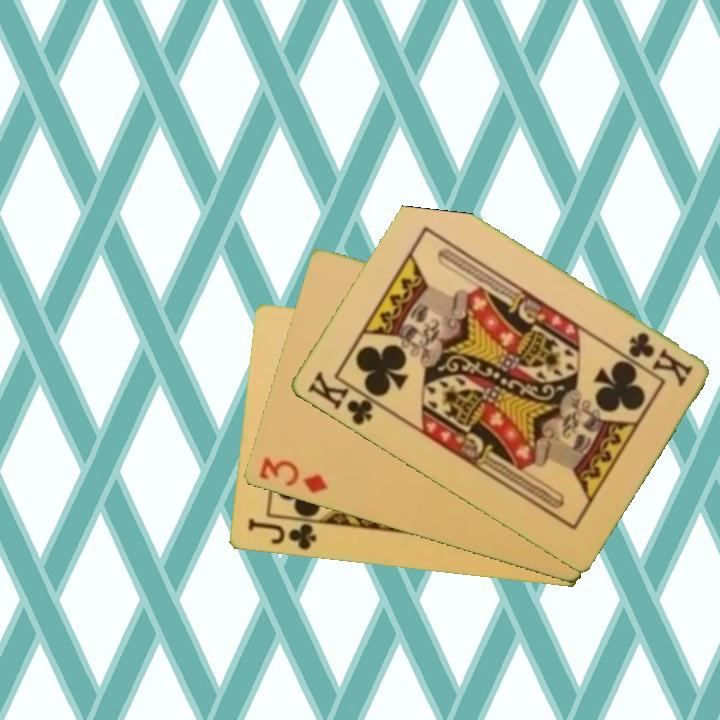3d: (255, 454, 331, 497)
Jc: (243, 515, 324, 553)
Kc: (303, 367, 385, 429), (624, 328, 695, 390)
